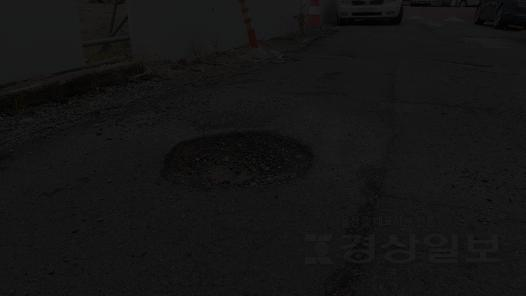pothole: (148, 113, 342, 216)
